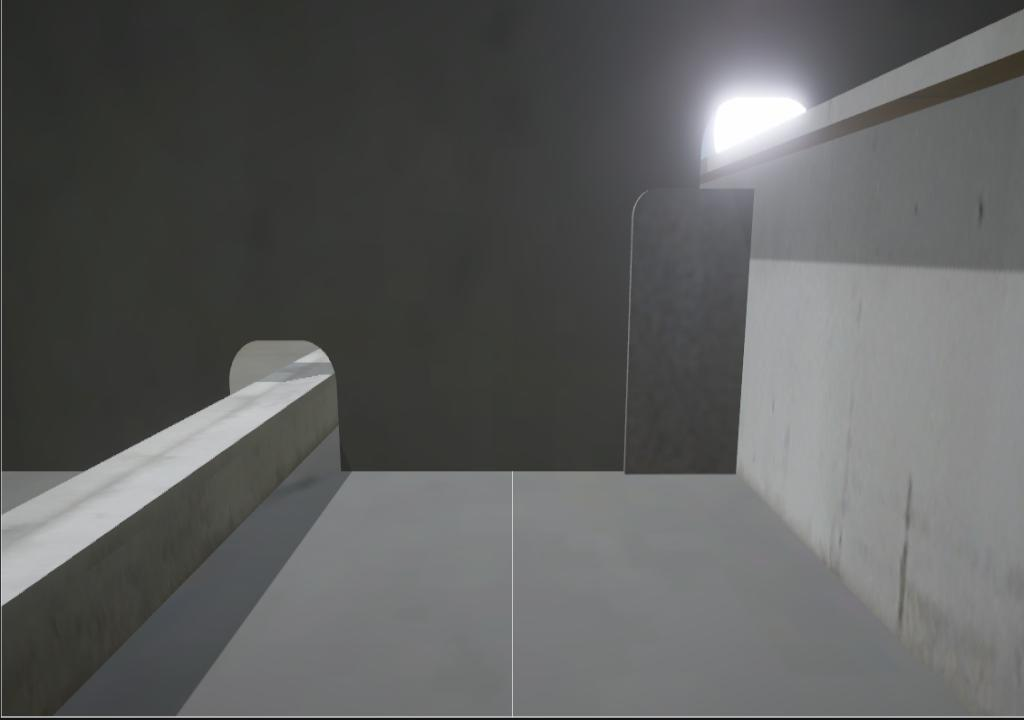fillet_yong_jeop_jang: (334, 461, 626, 488)
plate_CP05: (625, 188, 753, 474)
